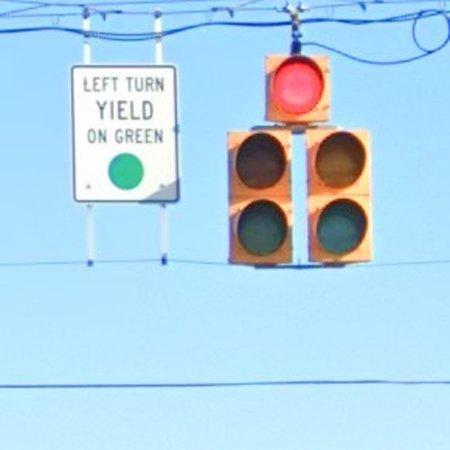traffic lights: (304, 126, 373, 265), (226, 125, 293, 268)
